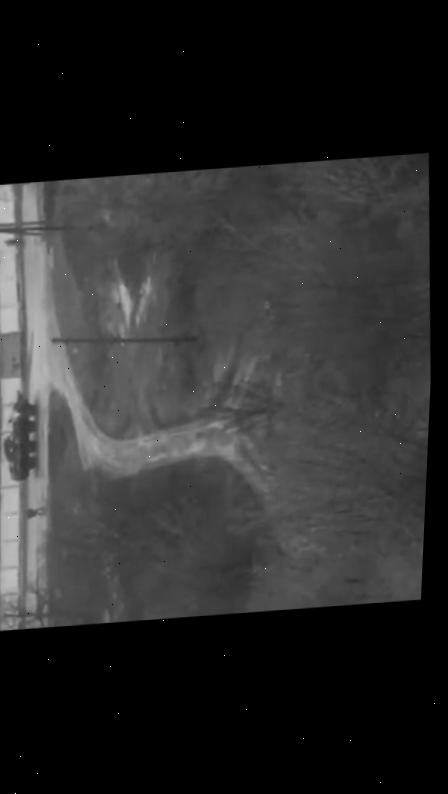person: (3, 234, 25, 248), (24, 506, 44, 517)
tank: (0, 387, 42, 482)
